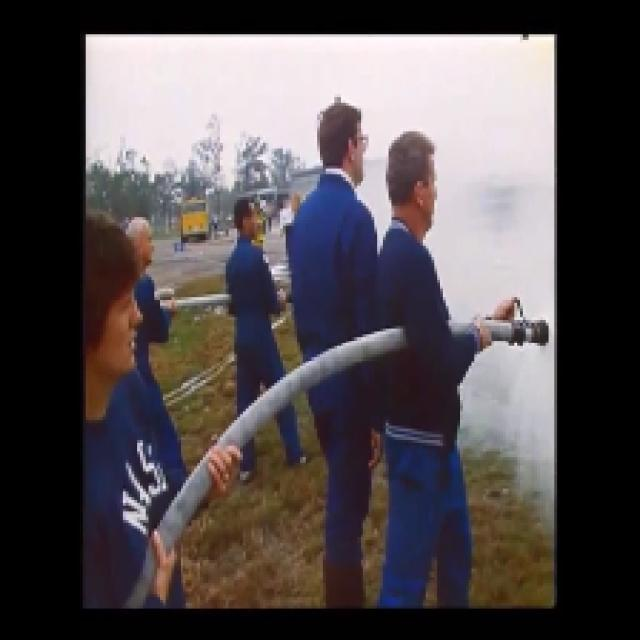Smoke: (370, 36, 545, 145)
